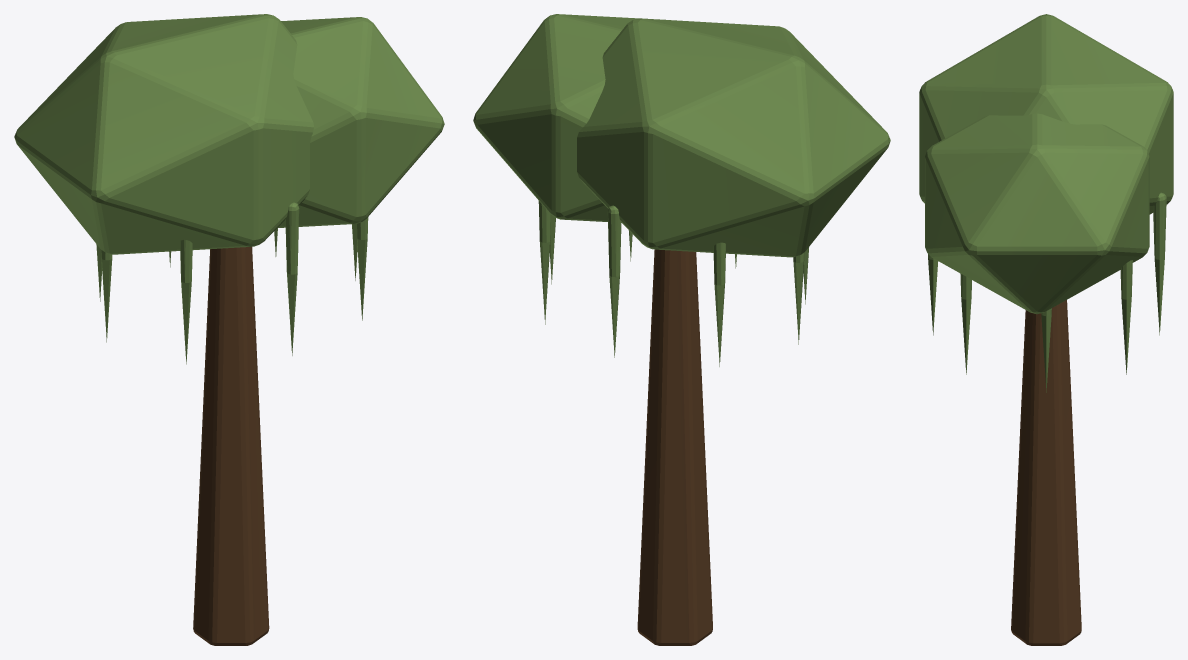
The model's file is prop_willow.glb.
The picture shows the model from 3 angles, left to right: view 1: azimuth 30°, elevation 25°; view 2: azimuth 150°, elevation 25°; view 3: azimuth 270°, elevation 25°; orthographic projection. The views are drawn at different scales.
Visible parts, largest first — view 1: prop_willow_part_0; view 2: prop_willow_part_0; view 3: prop_willow_part_0.
Part boxes in pixels (x1,y1,x2,y2): prop_willow_part_0: (14,14,444,645); prop_willow_part_0: (473,14,890,645); prop_willow_part_0: (919,14,1173,645).
Size of the model in its own units: 3.25 by 5.39 by 2.2.
